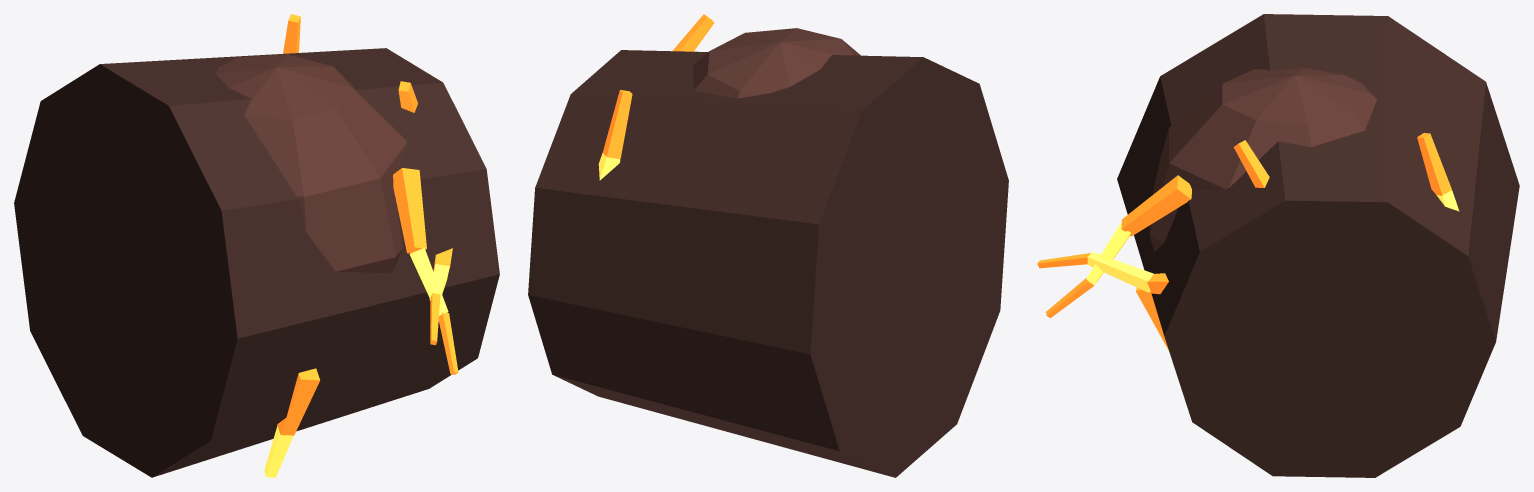
File: ember_thane_arm_l.glb
3 views of the same model, side by side, from view 1: azimuth 30°, elevation 25°; view 2: azimuth 150°, elevation 25°; view 3: azimuth 270°, elevation 25° (orthographic). The views are drawn at different scales.
Parts seen in each view (by area): view 1: ember_thane_arm_l; view 2: ember_thane_arm_l; view 3: ember_thane_arm_l.
Part boxes in pixels (x1,y1,x2,y2): ember_thane_arm_l: (14, 14, 499, 477); ember_thane_arm_l: (528, 14, 1008, 477); ember_thane_arm_l: (1037, 14, 1519, 477).
Bounding box in the file's own units: 0.2951 × 0.3261 × 0.4068.
